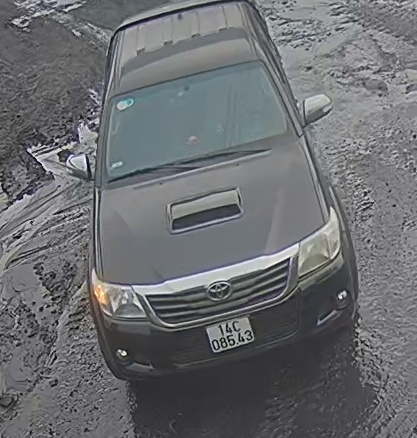vehicle plate: (192, 314, 253, 355)
